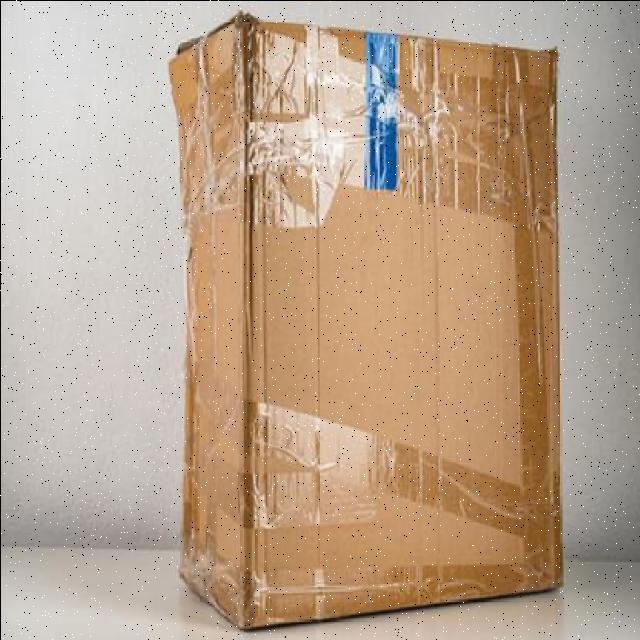normal: (164, 14, 562, 632)
